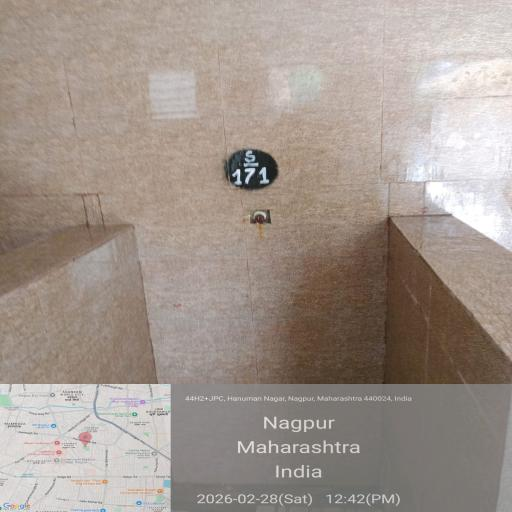clean_floor: (92, 124, 469, 490)
